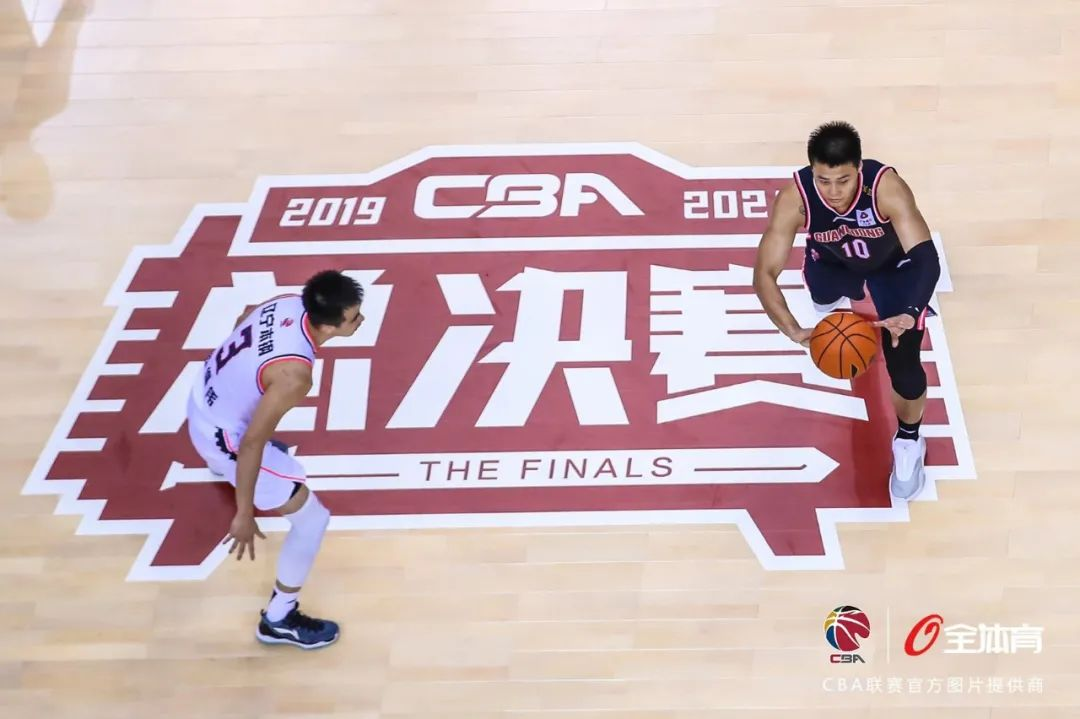ball: (807, 311, 878, 381)
